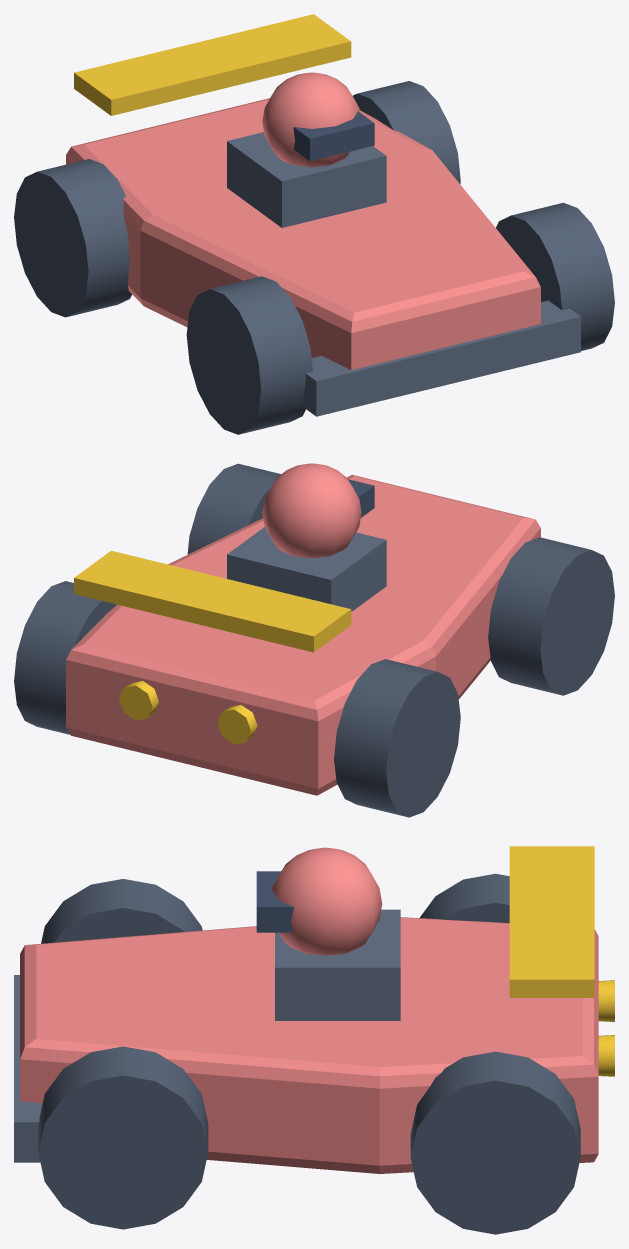
Rendered from interceptor.glb.
3 renders of one model, top to bottom at view 1: azimuth 30°, elevation 25°; view 2: azimuth 150°, elevation 25°; view 3: azimuth 270°, elevation 25°, orthographic. The views are drawn at different scales.
Parts seen in each view (by area): view 1: KartBody, KartWheel_FL, KartWheel_RL, KartAccent_Wing, KartBumper, KartSeat, KartWheel_FR, KartHelmet, KartWheel_RR, KartVisor; view 2: KartBody, KartWheel_FL, KartWheel_RL, KartAccent_Wing, KartSeat, KartWheel_RR, KartHelmet, KartWheel_FR, KartAccent_ExhaustL, KartAccent_ExhaustR, KartVisor; view 3: KartBody, KartWheel_FR, KartWheel_RR, KartAccent_Wing, KartSeat, KartHelmet, KartWheel_FL, KartWheel_RL, KartBumper, KartVisor, KartAccent_ExhaustR, KartAccent_ExhaustL.
Part boxes in pixels (x1,y1,x2,y2): KartBody: [66, 98, 540, 369]; KartWheel_FL: [186, 276, 312, 434]; KartWheel_RL: [14, 159, 131, 317]; KartAccent_Wing: [74, 14, 351, 115]; KartBumper: [301, 300, 580, 416]; KartSeat: [227, 132, 386, 227]; KartWheel_FR: [496, 202, 614, 350]; KartHelmet: [262, 72, 359, 167]; KartWheel_RR: [353, 81, 460, 183]; KartVisor: [293, 111, 374, 161]; KartBody: [66, 474, 540, 795]; KartWheel_FL: [488, 537, 614, 695]; KartWheel_RL: [334, 659, 460, 817]; KartAccent_Wing: [74, 550, 351, 652]; KartSeat: [227, 527, 386, 611]; KartWheel_RR: [14, 581, 116, 734]; KartHelmet: [262, 463, 361, 558]; KartWheel_FR: [187, 463, 281, 554]; KartAccent_ExhaustL: [217, 705, 257, 744]; KartAccent_ExhaustR: [119, 681, 158, 720]; KartVisor: [348, 479, 374, 517]; KartBody: [20, 917, 598, 1173]; KartWheel_FR: [38, 1046, 208, 1229]; KartWheel_RR: [410, 1051, 580, 1234]; KartAccent_Wing: [509, 846, 594, 997]; KartSeat: [275, 909, 400, 1020]; KartHelmet: [271, 847, 382, 955]; KartWheel_FL: [41, 879, 202, 943]; KartWheel_RL: [419, 873, 509, 922]; KartBumper: [14, 975, 42, 1162]; KartVisor: [256, 871, 293, 932]; KartAccent_ExhaustR: [598, 1035, 614, 1076]; KartAccent_ExhaustL: [598, 980, 614, 1021].
Bounding box in the file's own units: 2.42 × 1.52 × 2.97.
